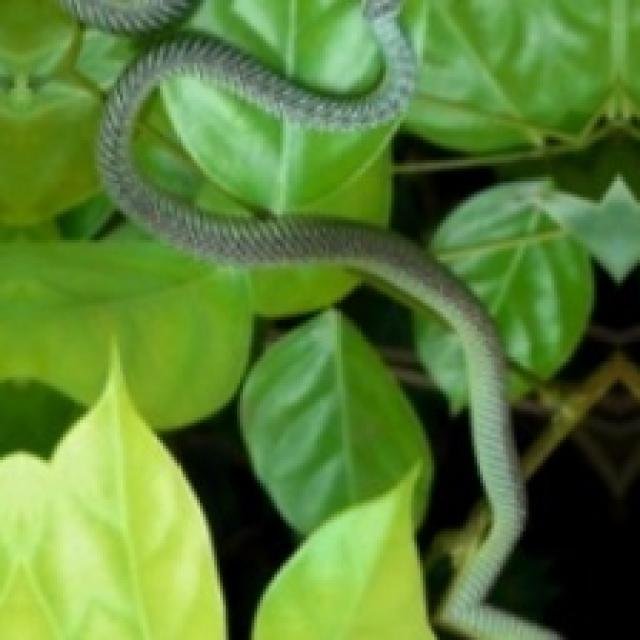paradise tree snake: (0, 0, 554, 637)
